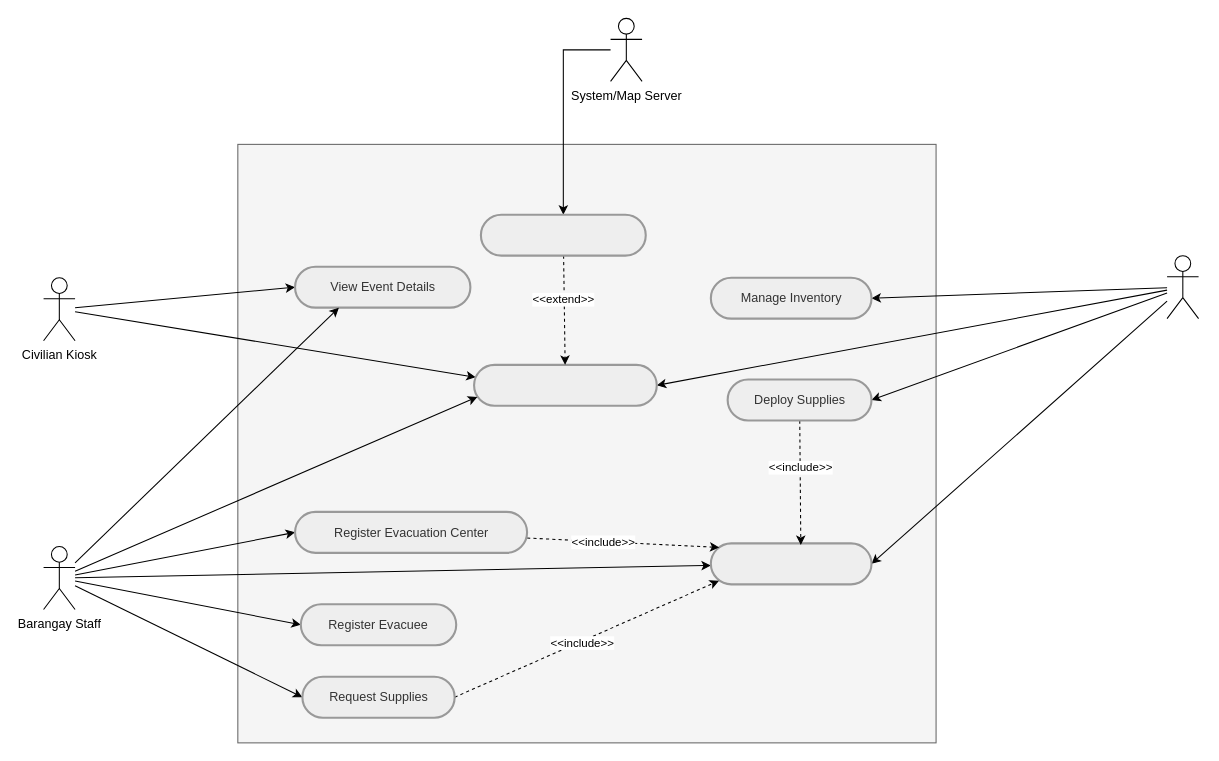
This 1219x761 diagram has some shape labels left out. The shapes that lost their labels are listed below. From the top down, each one's centre as x and y in pixels, then its label:
At [562,234]: "Prefetch Map Tiles".
At [1182,287]: "Admin".
At [564,384]: "View Interactive Map".
At [790,563]: "Login AuthService".
